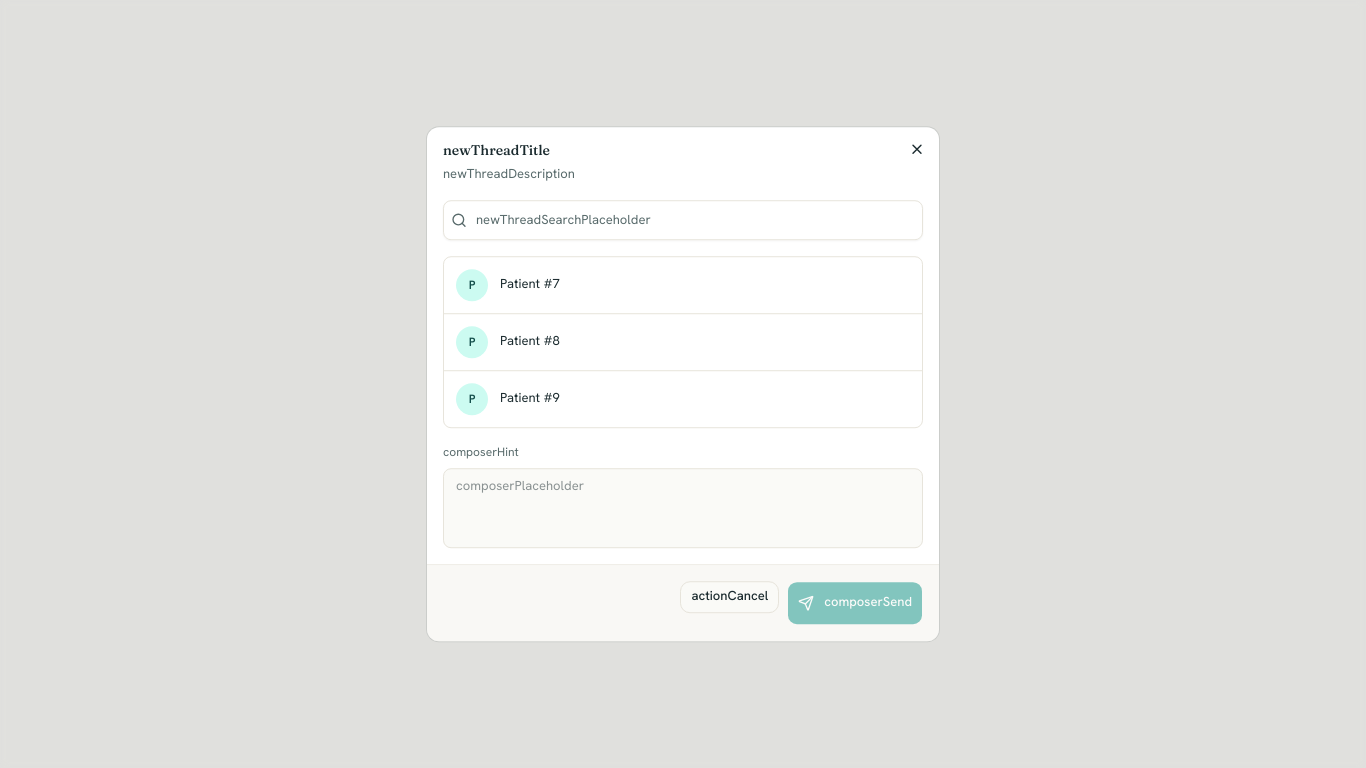
Test case: NewThreadModal (iter 4) › Fix M4 round 1 PR #444 : search filter par patientId exact → 1 résultat unique
Type "Patient #7" into the search field at (683, 220), box [443,200,923,240]
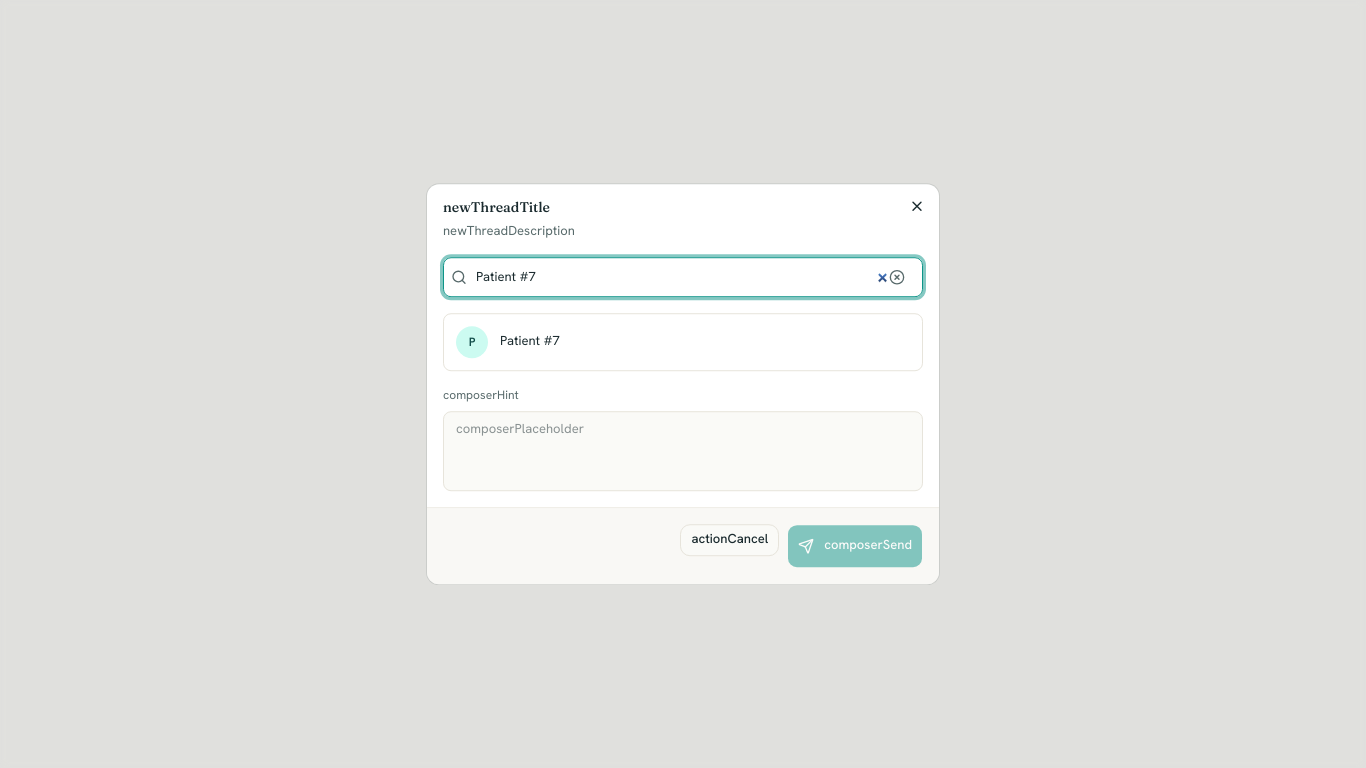
Result: the number of radio buttons is 1 at [444,314,922,370]
